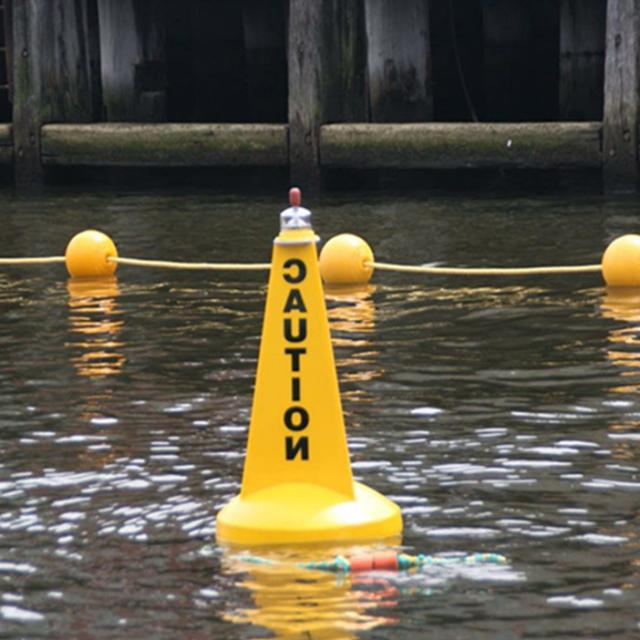buoy: (209, 188, 400, 560)
